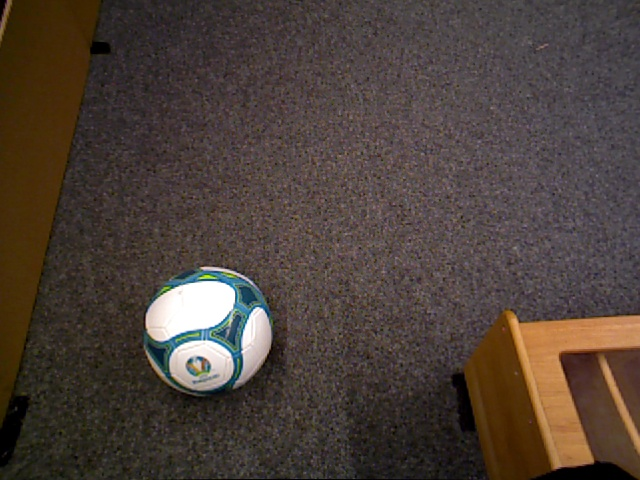kick: (142, 263, 273, 395)
